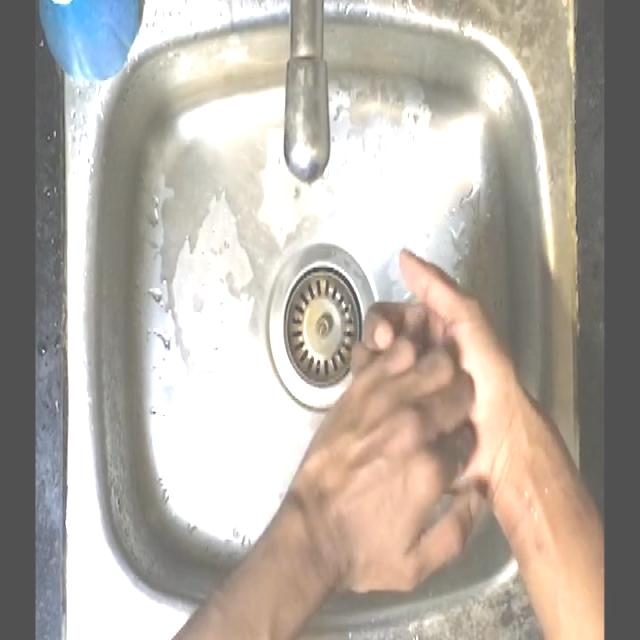step_4: (287, 246, 511, 496)
